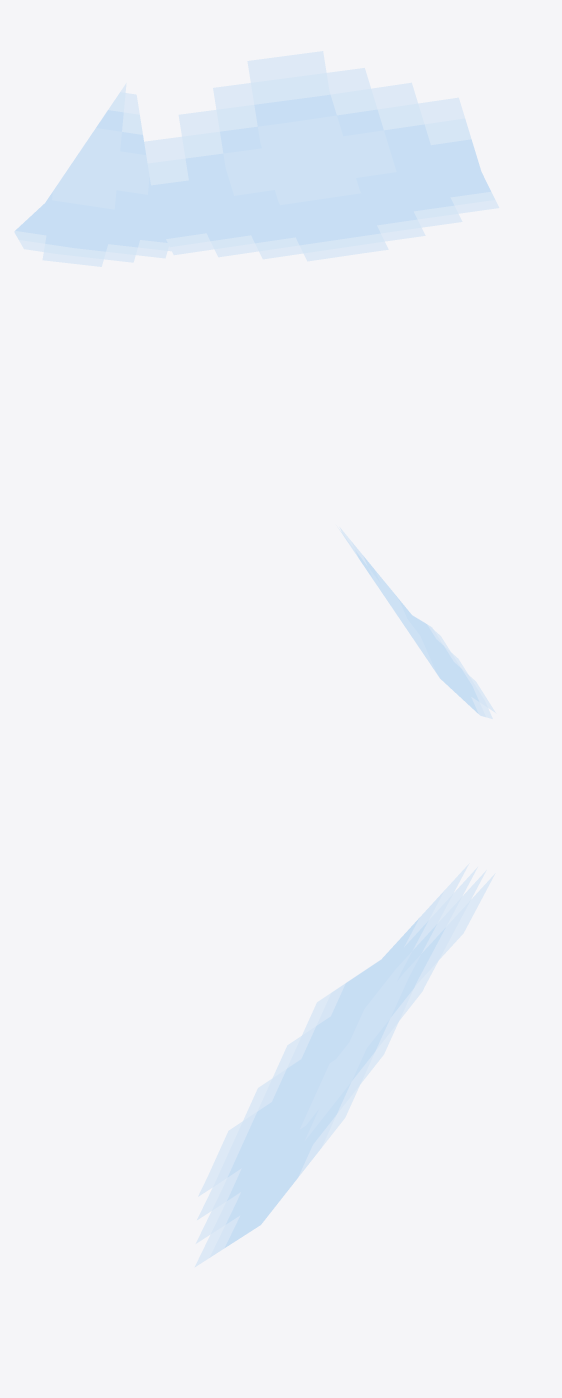
3 views of the same model, one above another, from view 1: azimuth 30°, elevation 25°; view 2: azimuth 150°, elevation 25°; view 3: azimuth 270°, elevation 25° (orthographic). The views are drawn at different scales.
Size of the model in its own units: 1 by 0.5088 by 0.6377.
Materials: 1 (1 with a texture image).
